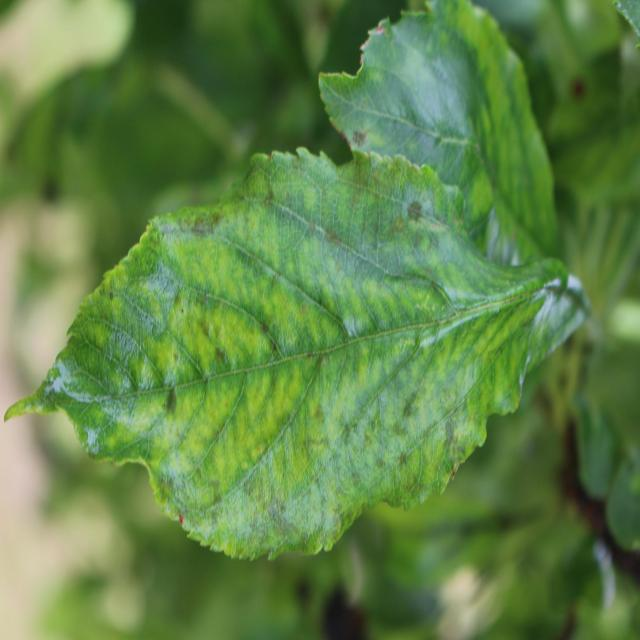rust: (2, 146, 591, 564)
